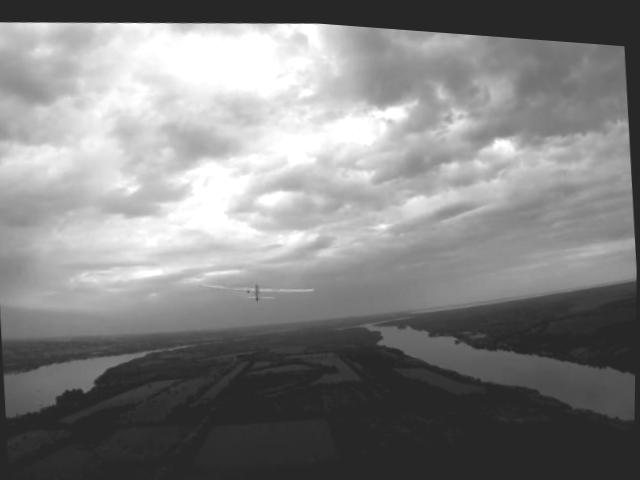hedef: (200, 262, 323, 315)
